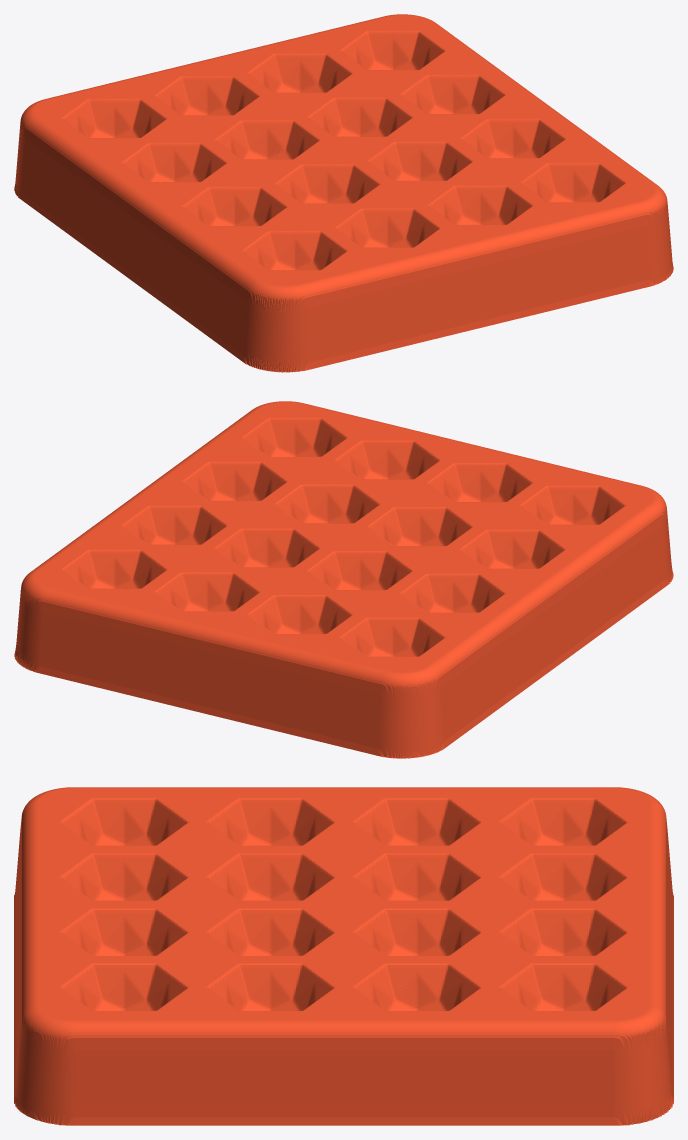
Rendered from mold.glb.
The picture shows the model from 3 angles, top to bottom: view 1: azimuth 30°, elevation 25°; view 2: azimuth 150°, elevation 25°; view 3: azimuth 270°, elevation 25°; orthographic projection. The views are drawn at different scales.
Visible parts, largest first — view 1: geometry_0; view 2: geometry_0; view 3: geometry_0.
Boxes of the visible parts, x1,y1,x2,y2 form: geometry_0: (14, 14, 673, 372); geometry_0: (14, 401, 673, 758); geometry_0: (14, 787, 673, 1125).
Bounding box in the file's own units: 0.0896 × 0.0158 × 0.0992.
